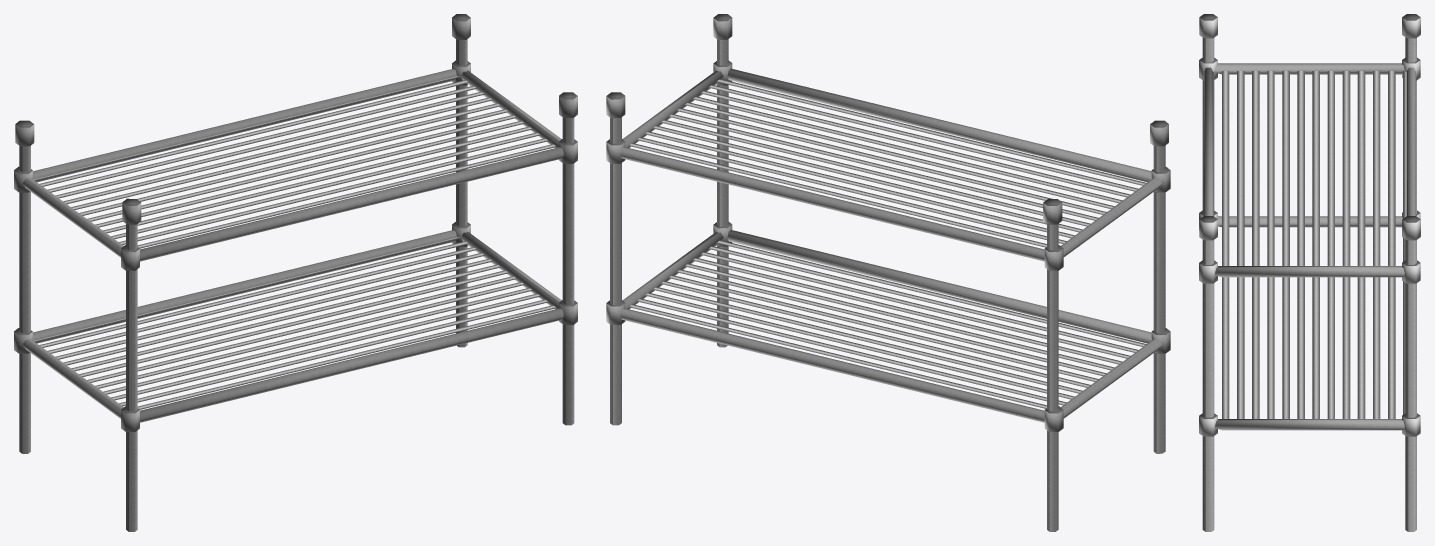
The model's file is Classic64_MetalRackStackableSmall_Model.fbx.
The picture shows the model from 3 angles, left to right: view 1: azimuth 30°, elevation 25°; view 2: azimuth 150°, elevation 25°; view 3: azimuth 270°, elevation 25°; orthographic projection. The views are drawn at different scales.
Parts seen in each view (by area): view 1: Classic64_MetalRackStackableSmall_Part001, Classic64_MetalRackStackableSmall_Part004, Classic64_MetalRackStackableSmall_Part003, Classic64_MetalRackStackableSmall_Part002, Classic64_MetalRackStackableSmall_Part000; view 2: Classic64_MetalRackStackableSmall_Part001, Classic64_MetalRackStackableSmall_Part004, Classic64_MetalRackStackableSmall_Part003, Classic64_MetalRackStackableSmall_Part002, Classic64_MetalRackStackableSmall_Part000; view 3: Classic64_MetalRackStackableSmall_Part001, Classic64_MetalRackStackableSmall_Part004, Classic64_MetalRackStackableSmall_Part000, Classic64_MetalRackStackableSmall_Part003, Classic64_MetalRackStackableSmall_Part002.
Part boxes in pixels (x1,y1,x2,y2): Classic64_MetalRackStackableSmall_Part001: (33, 76, 556, 248); Classic64_MetalRackStackableSmall_Part004: (34, 237, 556, 409); Classic64_MetalRackStackableSmall_Part003: (14, 60, 577, 270); Classic64_MetalRackStackableSmall_Part002: (14, 222, 577, 431); Classic64_MetalRackStackableSmall_Part000: (15, 14, 577, 531); Classic64_MetalRackStackableSmall_Part001: (629, 76, 1150, 247); Classic64_MetalRackStackableSmall_Part004: (629, 237, 1150, 408); Classic64_MetalRackStackableSmall_Part003: (606, 60, 1170, 270); Classic64_MetalRackStackableSmall_Part002: (606, 222, 1170, 431); Classic64_MetalRackStackableSmall_Part000: (606, 14, 1168, 531); Classic64_MetalRackStackableSmall_Part001: (1213, 71, 1406, 265); Classic64_MetalRackStackableSmall_Part004: (1222, 277, 1405, 418); Classic64_MetalRackStackableSmall_Part000: (1199, 14, 1420, 531); Classic64_MetalRackStackableSmall_Part003: (1199, 57, 1420, 283); Classic64_MetalRackStackableSmall_Part002: (1199, 210, 1420, 436).
Bounding box in the file's own units: 1.31 × 0.9076 × 0.5874.
1 material, 1 textured.
